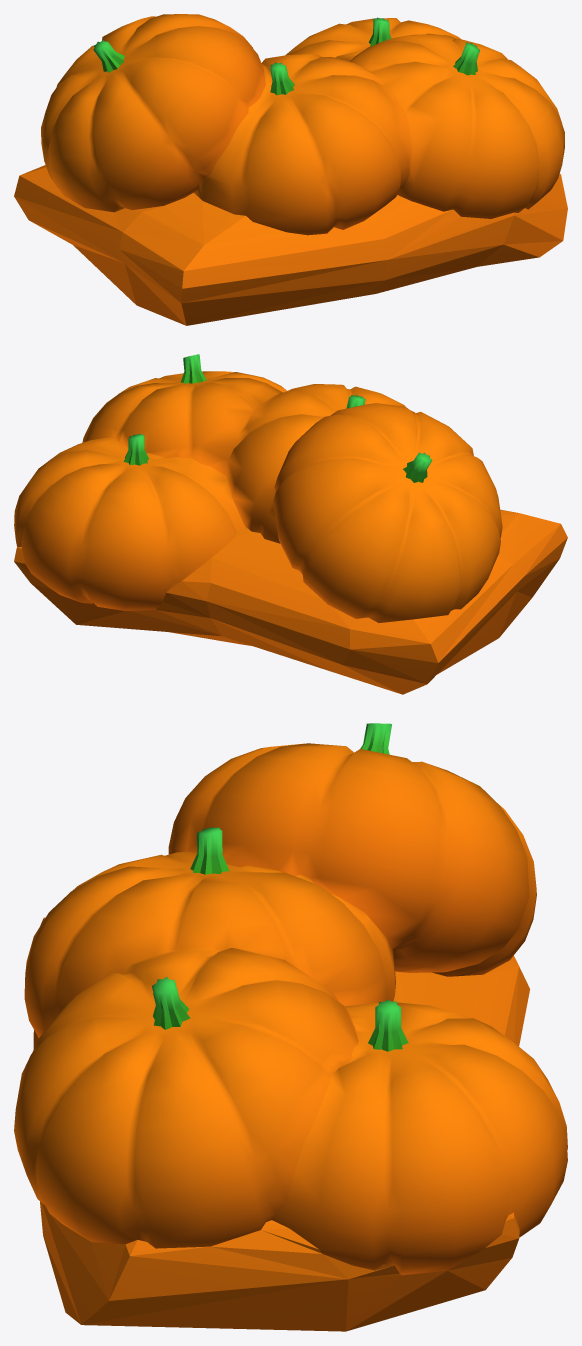
File: pumpkin_pile.fbx
3 views of the same model, one above another, from view 1: azimuth 30°, elevation 25°; view 2: azimuth 150°, elevation 25°; view 3: azimuth 270°, elevation 25° (orthographic). The views are drawn at different scales.
Visible parts, largest first — view 1: pumpkin_pile; view 2: pumpkin_pile; view 3: pumpkin_pile.
Part boxes in pixels (<box>): pumpkin_pile: <box>14,14,567,325</box>; pumpkin_pile: <box>14,354,567,694</box>; pumpkin_pile: <box>14,723,567,1331</box>.
Bounding box in the file's own units: 416 × 211 × 294.
